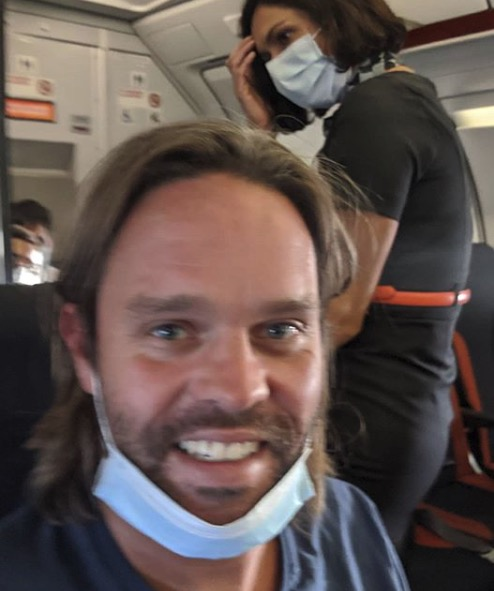mask_weared_incorrect: (102, 261, 318, 536)
with_mask: (248, 20, 345, 105)
